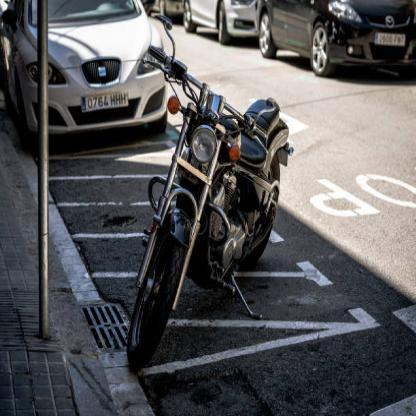Motorcycle: (117, 26, 290, 379)
